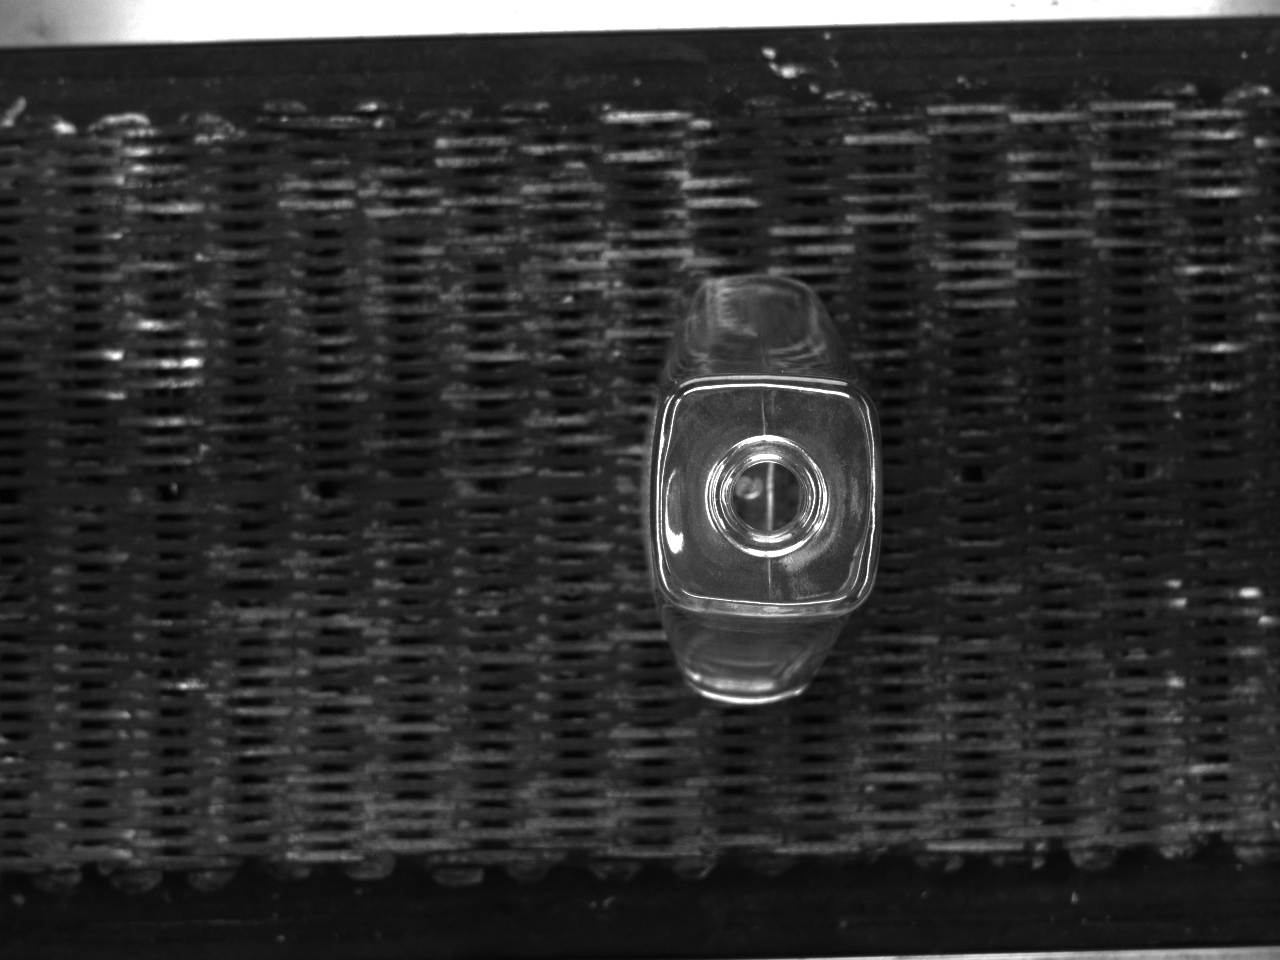bottleneck: (706, 435, 830, 556)
